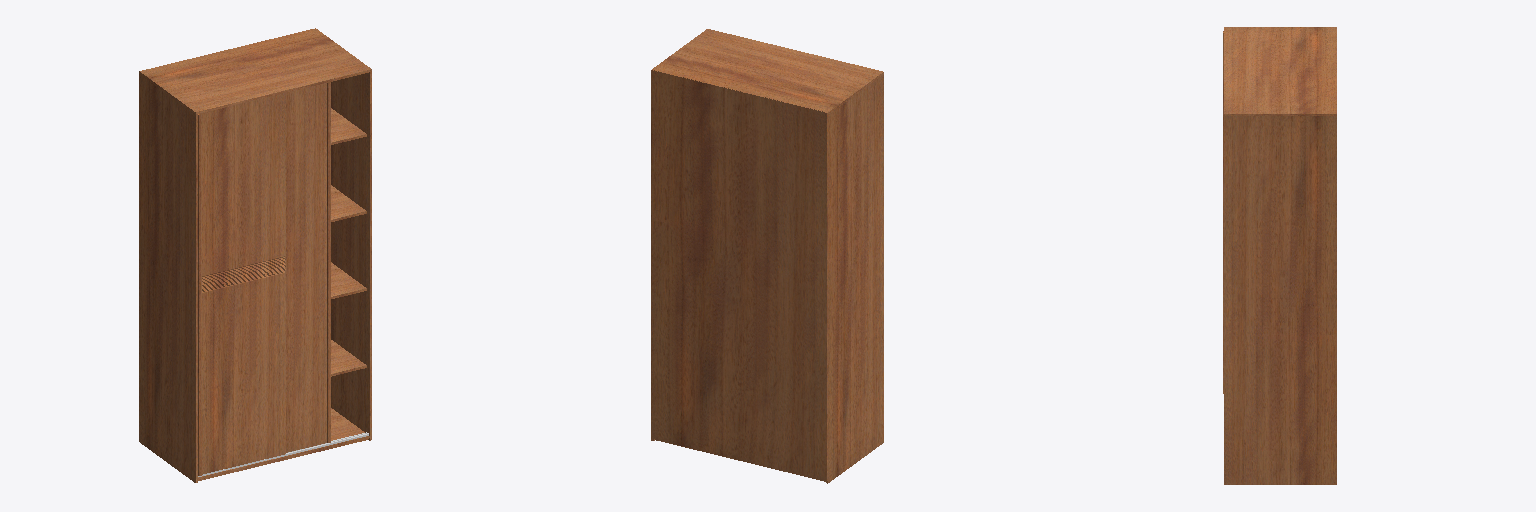
3 renders of one model, left to right at view 1: azimuth 30°, elevation 25°; view 2: azimuth 150°, elevation 25°; view 3: azimuth 270°, elevation 25°, orthographic.
Visible parts, largest first — view 1: Box014_16, Box002_0, Box013_13, Box003_0, Box004_2, Box017_14, Box016_14, Box005_3, Box009_7, Box010_7, Box011_7, Box012_7; view 2: Box018_25, Box002_0, Box004_2; view 3: Box003_0, Box004_2.
Boxes of the visible parts, x1=… form: Box014_16: x1=201, y1=93, x2=285, y2=474; Box002_0: x1=139, y1=74, x2=197, y2=482; Box013_13: x1=286, y1=83, x2=326, y2=452; Box003_0: x1=331, y1=72, x2=371, y2=440; Box004_2: x1=139, y1=28, x2=371, y2=114; Box017_14: x1=198, y1=114, x2=201, y2=475; Box016_14: x1=327, y1=82, x2=330, y2=442; Box005_3: x1=198, y1=408, x2=369, y2=479; Box009_7: x1=331, y1=108, x2=366, y2=144; Box010_7: x1=331, y1=185, x2=366, y2=221; Box011_7: x1=331, y1=262, x2=366, y2=298; Box012_7: x1=331, y1=340, x2=366, y2=376; Box018_25: x1=652, y1=70, x2=827, y2=480; Box002_0: x1=826, y1=75, x2=883, y2=483; Box004_2: x1=651, y1=29, x2=883, y2=114; Box003_0: x1=1224, y1=116, x2=1336, y2=484; Box004_2: x1=1224, y1=27, x2=1336, y2=115.
Size of the model in its own units: 110 by 220 by 61.38.
2 materials, 1 textured.